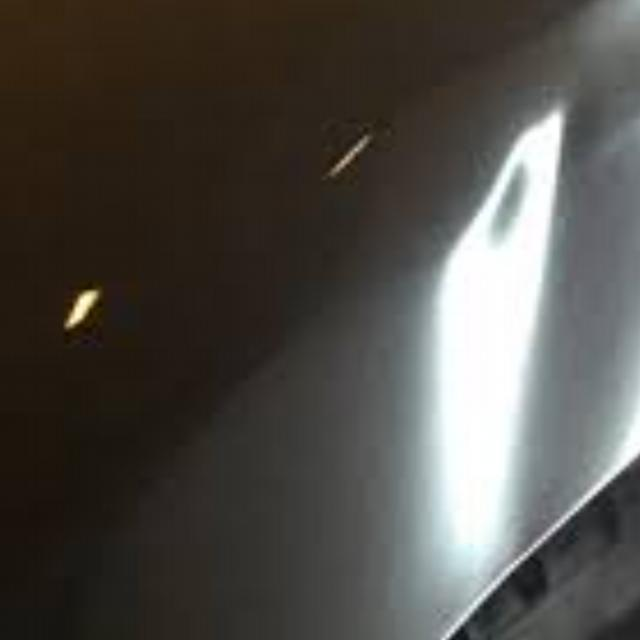dents: (469, 144, 570, 270)
